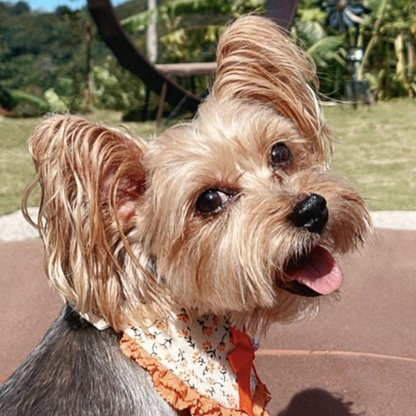yorkshire: (6, 15, 371, 405)
